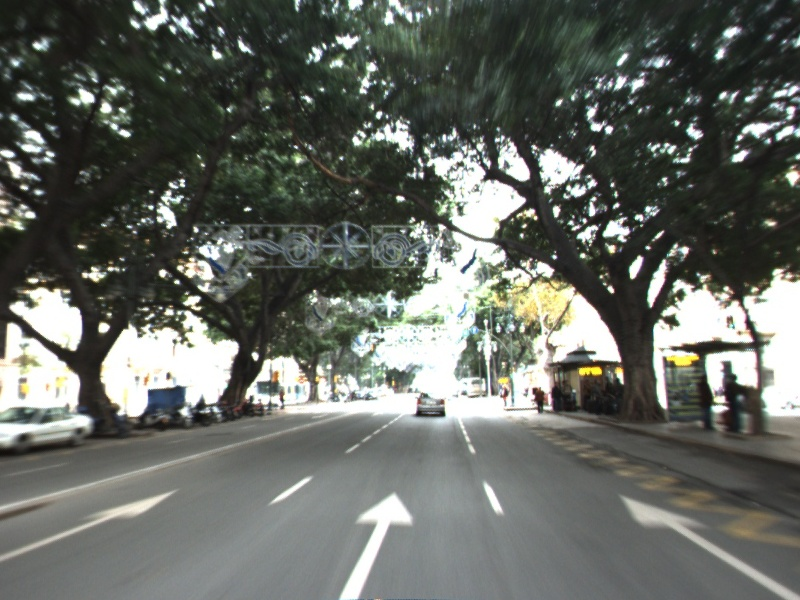STRAIGHT: (613, 489, 800, 600), (1, 486, 183, 562), (336, 488, 415, 600)
